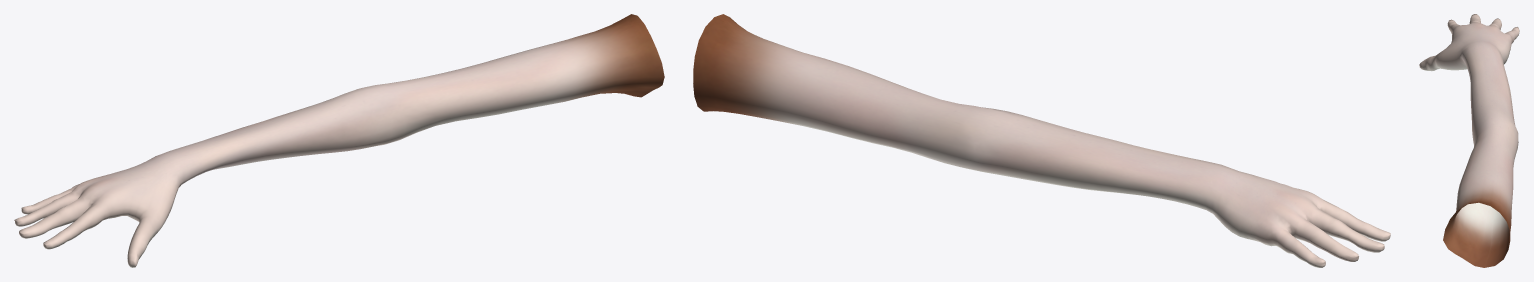
The model's file is Rhand.fbx.
3 views of the same model, side by side, from view 1: azimuth 30°, elevation 25°; view 2: azimuth 150°, elevation 25°; view 3: azimuth 270°, elevation 25° (orthographic). The views are drawn at different scales.
Visible parts, largest first — view 1: Rhand; view 2: Rhand; view 3: Rhand.
Boxes of the visible parts, x1=… form: Rhand: x1=14, y1=14, x2=664, y2=267; Rhand: x1=693, y1=14, x2=1390, y2=267; Rhand: x1=1419, y1=14, x2=1519, y2=267.
Bounding box in the file's own units: 60.79 × 8.81 × 10.7.
1 material, 1 textured.
